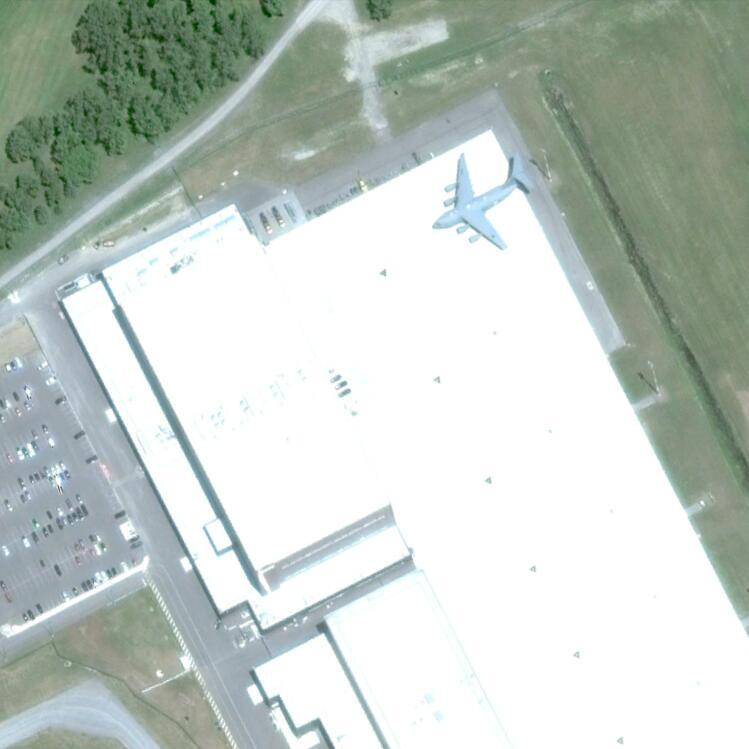A3: (429, 152, 531, 251)
